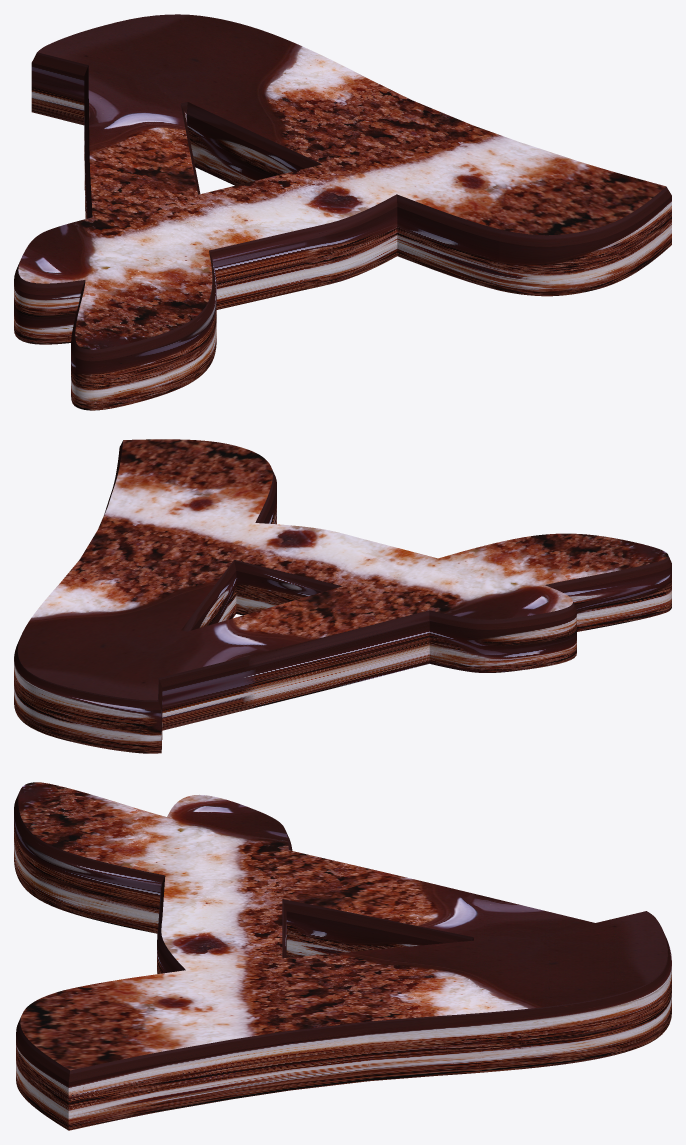
Rendered from myA.FBX.
3 renders of one model, top to bottom at view 1: azimuth 30°, elevation 25°; view 2: azimuth 150°, elevation 25°; view 3: azimuth 270°, elevation 25°, orthographic. The views are drawn at different scales.
Visible parts, largest first — view 1: myA; view 2: myA; view 3: myA.
Boxes of the visible parts, x1,y1,x2,y2 form: myA: (14, 14, 671, 410); myA: (14, 439, 671, 753); myA: (14, 782, 671, 1130).
Bounding box in the file's own units: 65 × 6 × 61.8.
1 material, 1 textured.
